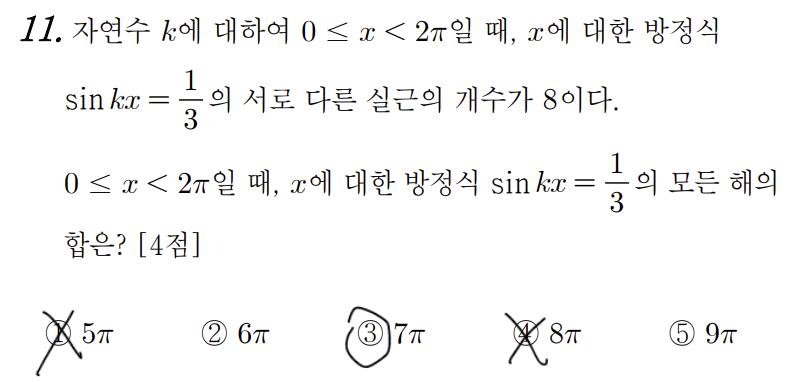1: (342, 305, 394, 369)
paper: (41, 318, 75, 348), (197, 318, 231, 348), (354, 318, 388, 348), (513, 318, 547, 348), (666, 318, 700, 348)
